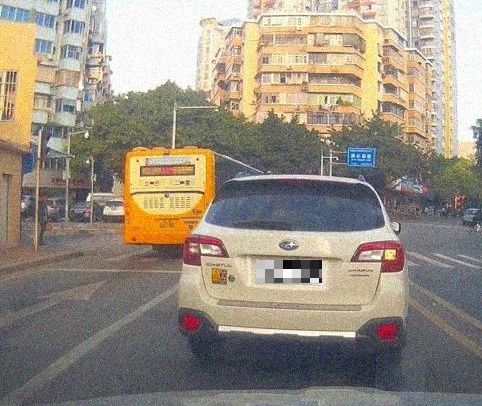L_light: (182, 233, 230, 267)
R_light: (350, 240, 405, 273)
T_light: (280, 179, 311, 184)
day-right: (177, 174, 409, 370)
plate_1: (256, 260, 322, 283)
